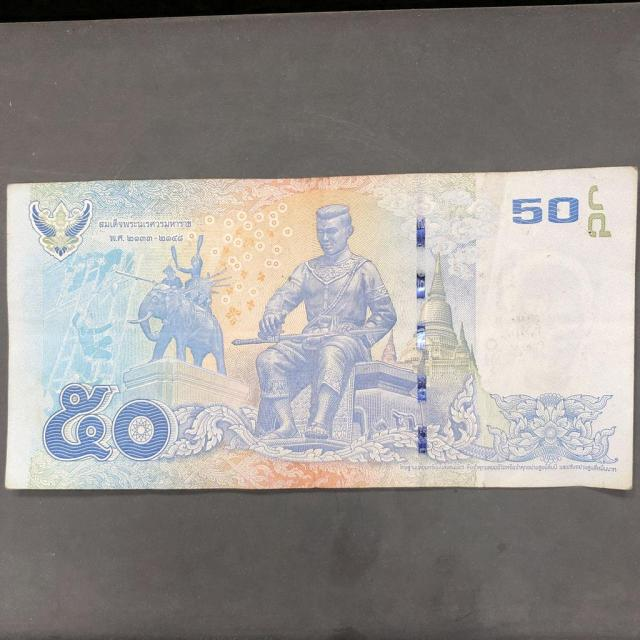THAI50: (5, 167, 638, 489)
